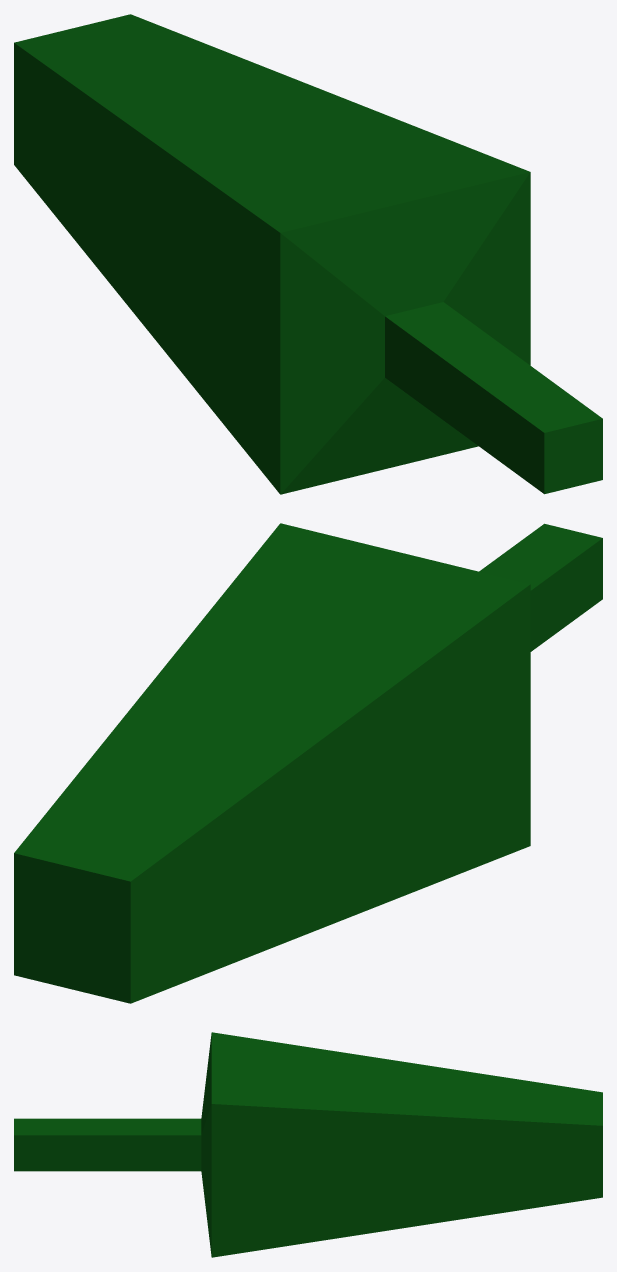
File: arvore 02.fbx
The picture shows the model from 3 angles, top to bottom: view 1: azimuth 30°, elevation 25°; view 2: azimuth 150°, elevation 25°; view 3: azimuth 270°, elevation 25°; orthographic projection. The views are drawn at different scales.
Parts seen in each view (by area): view 1: Cube; view 2: Cube; view 3: Cube.
Boxes of the visible parts, x1,y1,x2,y2 form: Cube: (14,14,602,494); Cube: (14,523,602,1003); Cube: (14,1032,602,1257).
Bounding box in the file's own units: 338 × 338 × 1174.
